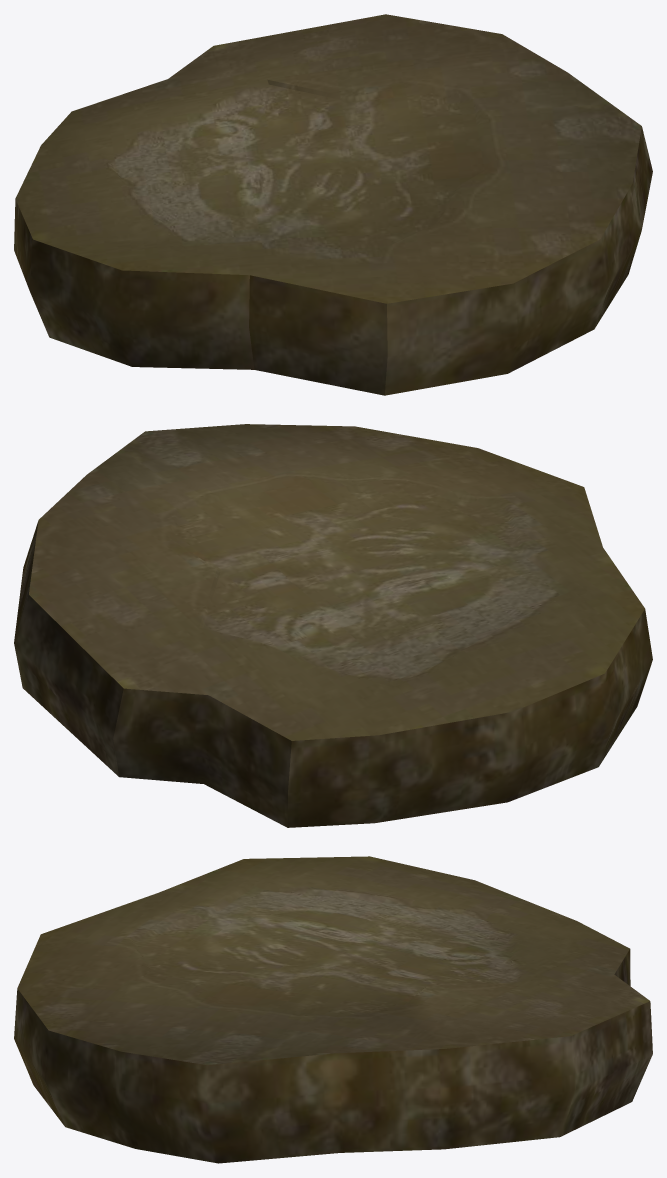
The model's file is Pickle1.fbx.
3 renders of one model, top to bottom at view 1: azimuth 30°, elevation 25°; view 2: azimuth 150°, elevation 25°; view 3: azimuth 270°, elevation 25°, orthographic. The views are drawn at different scales.
Visible parts, largest first — view 1: pickle_1_2; view 2: pickle_1_2; view 3: pickle_1_2.
Boxes of the visible parts, <box> form: pickle_1_2: <box>14,14,652,395</box>; pickle_1_2: <box>14,424,652,827</box>; pickle_1_2: <box>14,856,652,1163</box>.
Bounding box in the file's own units: 2.36 × 0.661 × 2.44.
